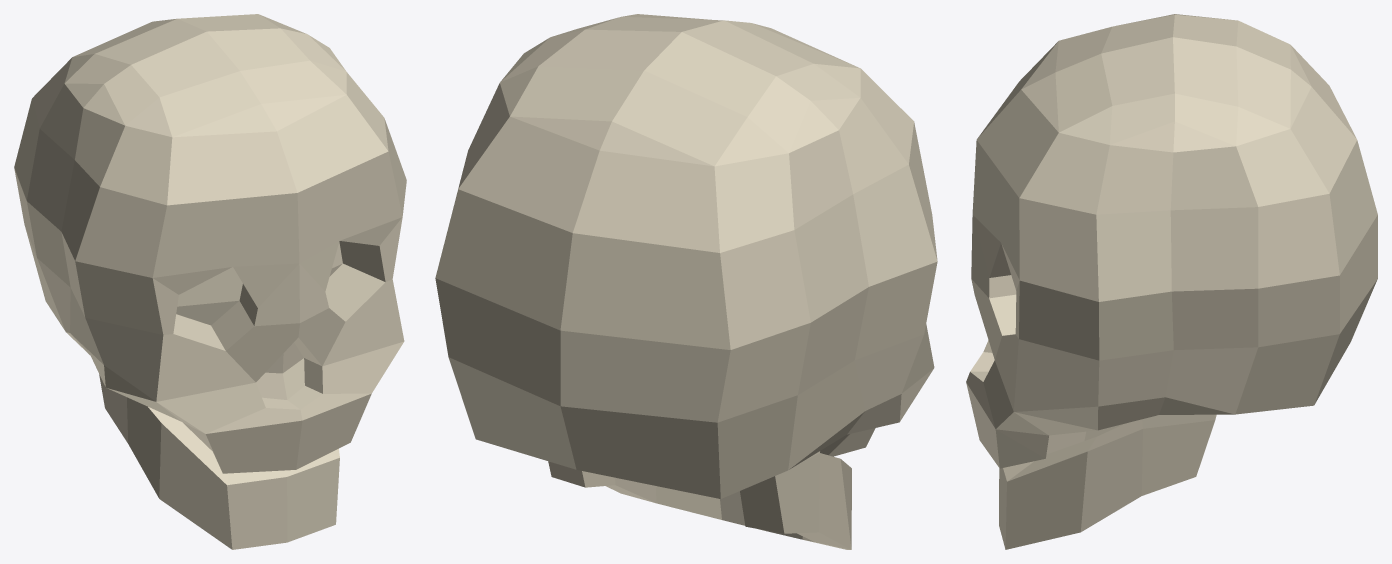
File: skull.glb
The picture shows the model from 3 angles, left to right: view 1: azimuth 30°, elevation 25°; view 2: azimuth 150°, elevation 25°; view 3: azimuth 270°, elevation 25°; orthographic projection. The views are drawn at different scales.
Parts seen in each view (by area): view 1: Skull; view 2: Skull; view 3: Skull.
Boxes of the visible parts, x1,y1,x2,y2 form: Skull: (14, 14, 406, 549); Skull: (435, 14, 937, 549); Skull: (966, 14, 1377, 549).
Size of the model in its own units: 0.1919 by 0.25 by 0.1909.
